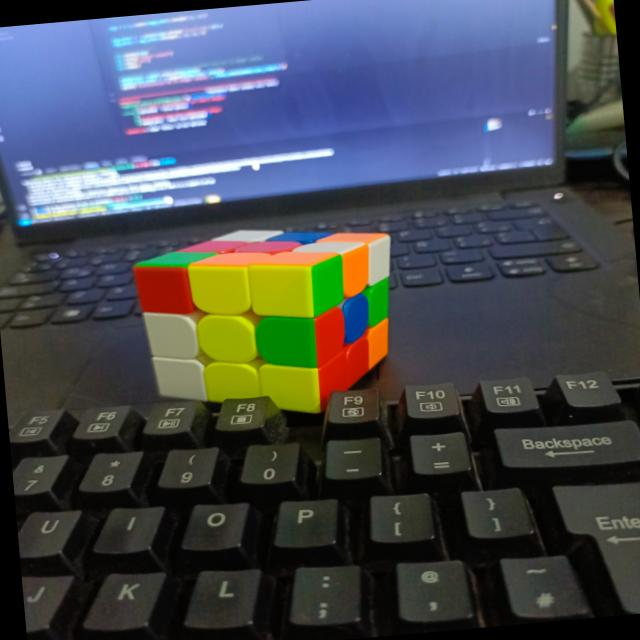rubik: (128, 215, 406, 427)
